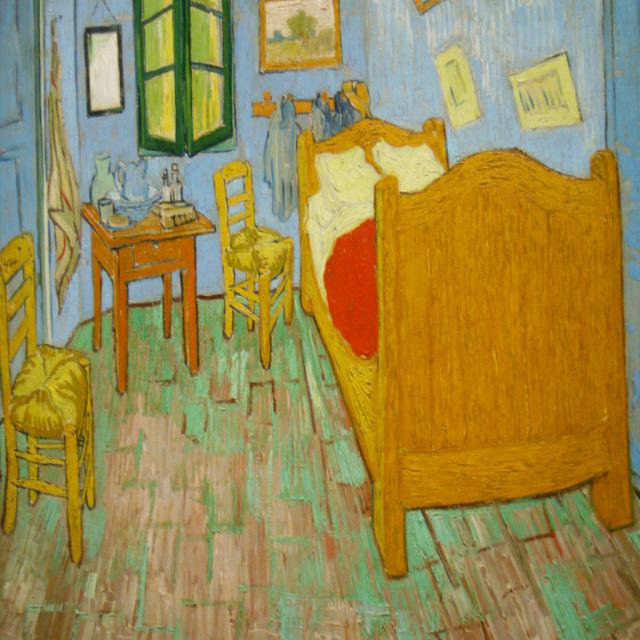chair: (0, 232, 96, 566), (213, 161, 294, 370)
desk: (87, 202, 205, 380)
